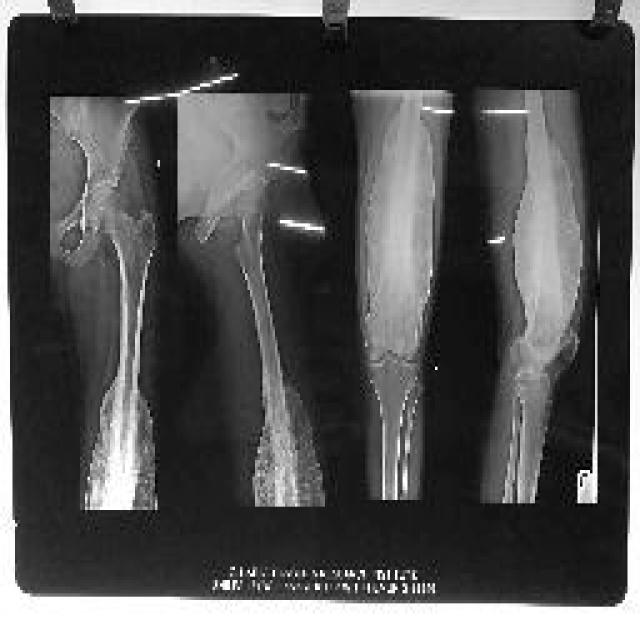bone-cancer: (362, 108, 440, 334), (514, 123, 581, 342), (244, 360, 330, 506), (85, 375, 156, 509)
